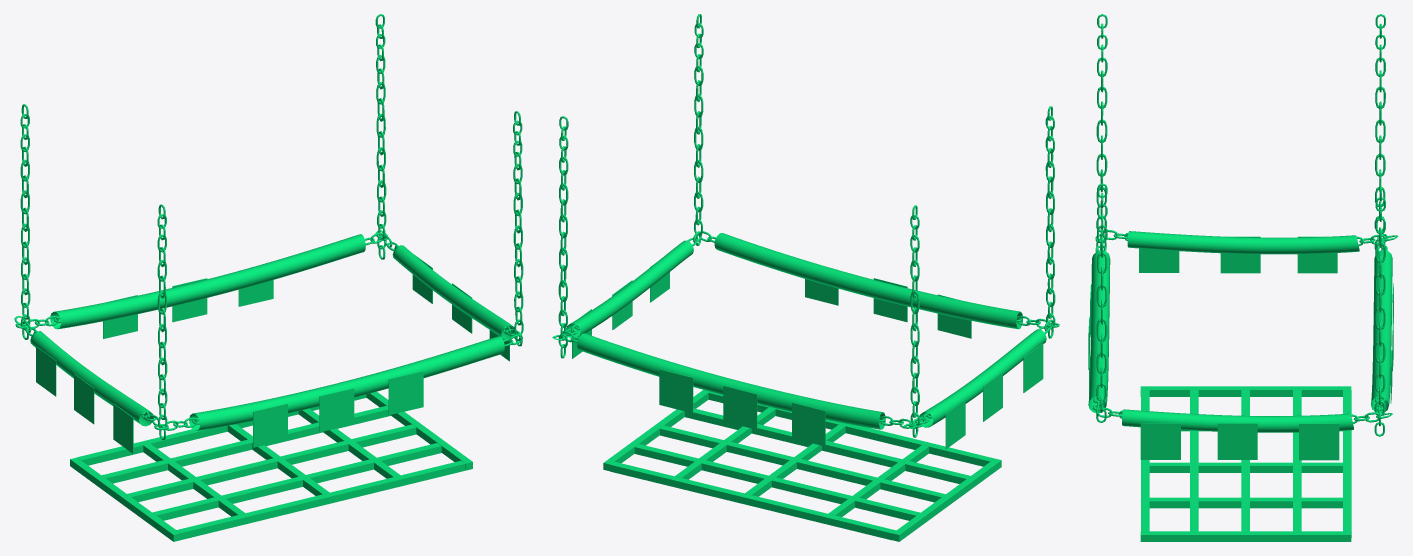
File: Grizzly with signs.fbx
3 views of the same model, side by side, from view 1: azimuth 30°, elevation 25°; view 2: azimuth 150°, elevation 25°; view 3: azimuth 270°, elevation 25° (orthographic). The views are drawn at different scales.
Parts seen in each view (by area): view 1: Grizzly.001; view 2: Grizzly.001; view 3: Grizzly.001.
Part boxes in pixels (x1=…): Grizzly.001: x1=14, y1=14, x2=523, y2=541; Grizzly.001: x1=552, y1=14, x2=1059, y2=541; Grizzly.001: x1=1088, y1=14, x2=1398, y2=541.
Bounding box in the file's own units: 186 × 172 × 130.
